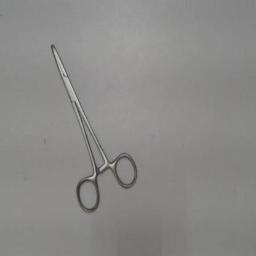Mayo Needle Holder: (46, 34, 142, 218)
